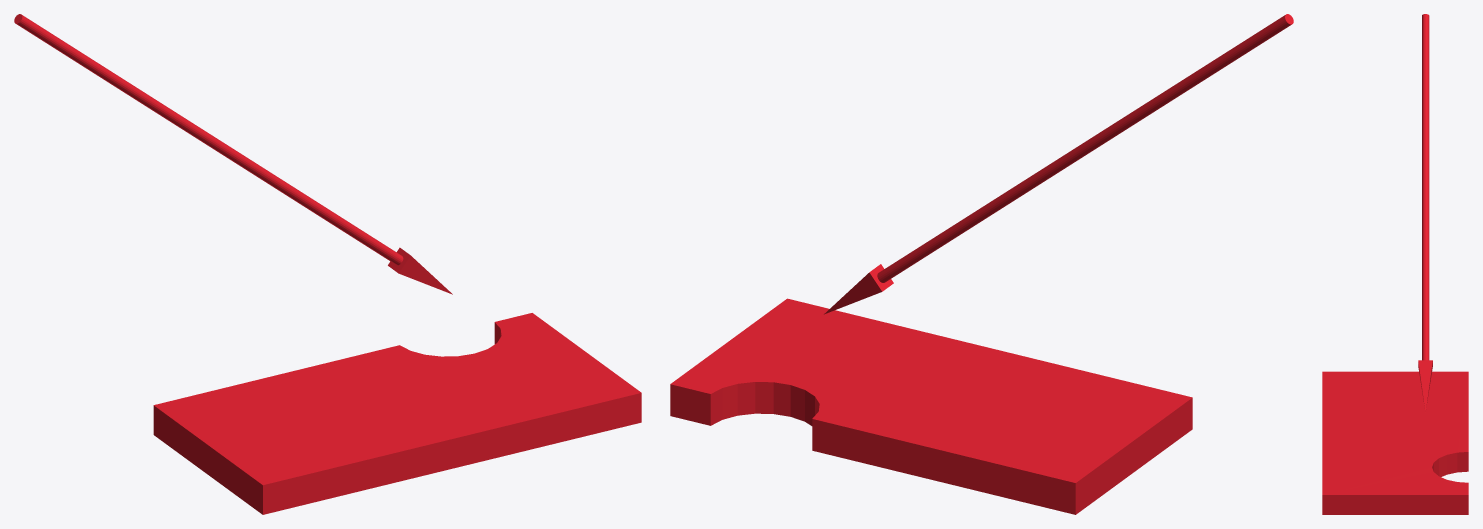
File: tinker.obj
The picture shows the model from 3 angles, left to right: view 1: azimuth 30°, elevation 25°; view 2: azimuth 150°, elevation 25°; view 3: azimuth 270°, elevation 25°; orthographic projection. The views are drawn at different scales.
Visible parts, largest first — view 1: obj_0; view 2: obj_0; view 3: obj_0.
Boxes of the visible parts, left/top/right/bottom form: obj_0: left=14, top=14, right=641, bottom=514; obj_0: left=670, top=14, right=1293, bottom=514; obj_0: left=1322, top=14, right=1468, bottom=514.
Size of the model in its own units: 58 by 48.85 by 20.
